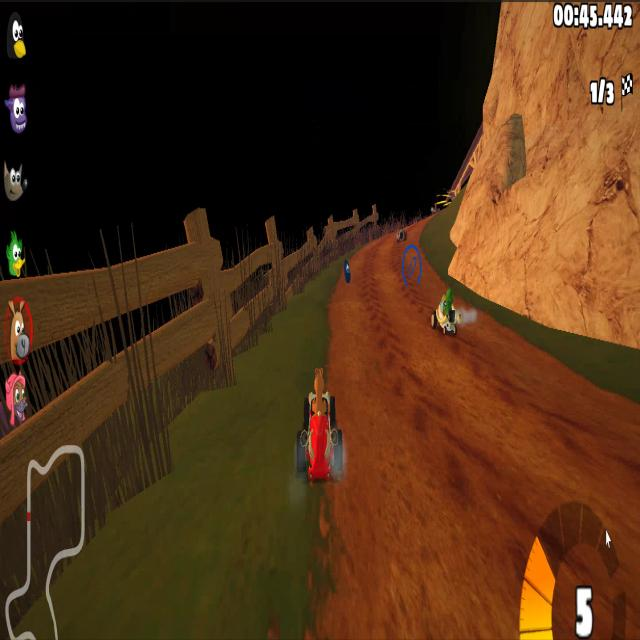enemy_kart: (430, 289, 461, 344), (396, 222, 408, 244)
nitro: (344, 258, 356, 278)
track: (322, 495, 519, 640), (347, 426, 636, 489), (334, 294, 425, 416), (430, 355, 587, 416), (361, 239, 397, 286), (416, 218, 435, 221)
